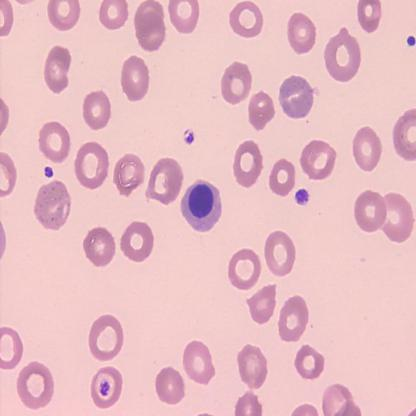NRC: (181, 180, 222, 233)
